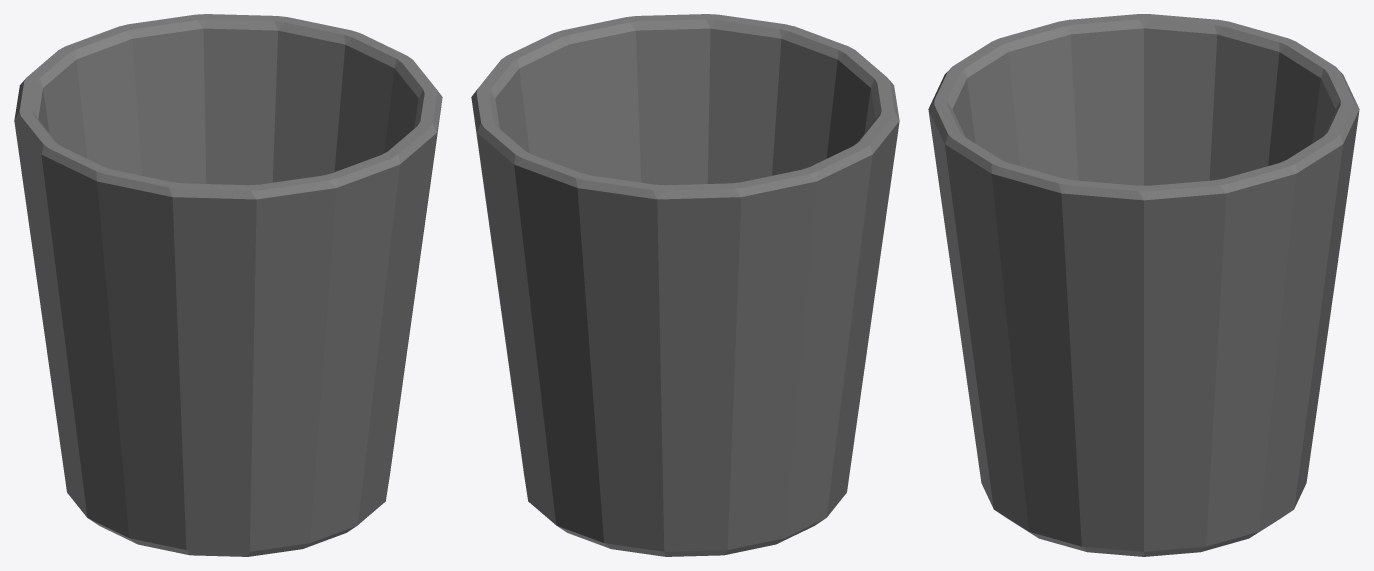
File: Bucket.fbx
3 renders of one model, left to right at view 1: azimuth 30°, elevation 25°; view 2: azimuth 150°, elevation 25°; view 3: azimuth 270°, elevation 25°, orthographic.
Parts seen in each view (by area): view 1: Cylinder; view 2: Cylinder; view 3: Cylinder.
Boxes of the visible parts, bbox=[...] form: Cylinder: bbox=[14, 14, 442, 556]; Cylinder: bbox=[471, 14, 899, 556]; Cylinder: bbox=[928, 14, 1359, 556].
Size of the model in its own units: 199 by 200 by 199.
